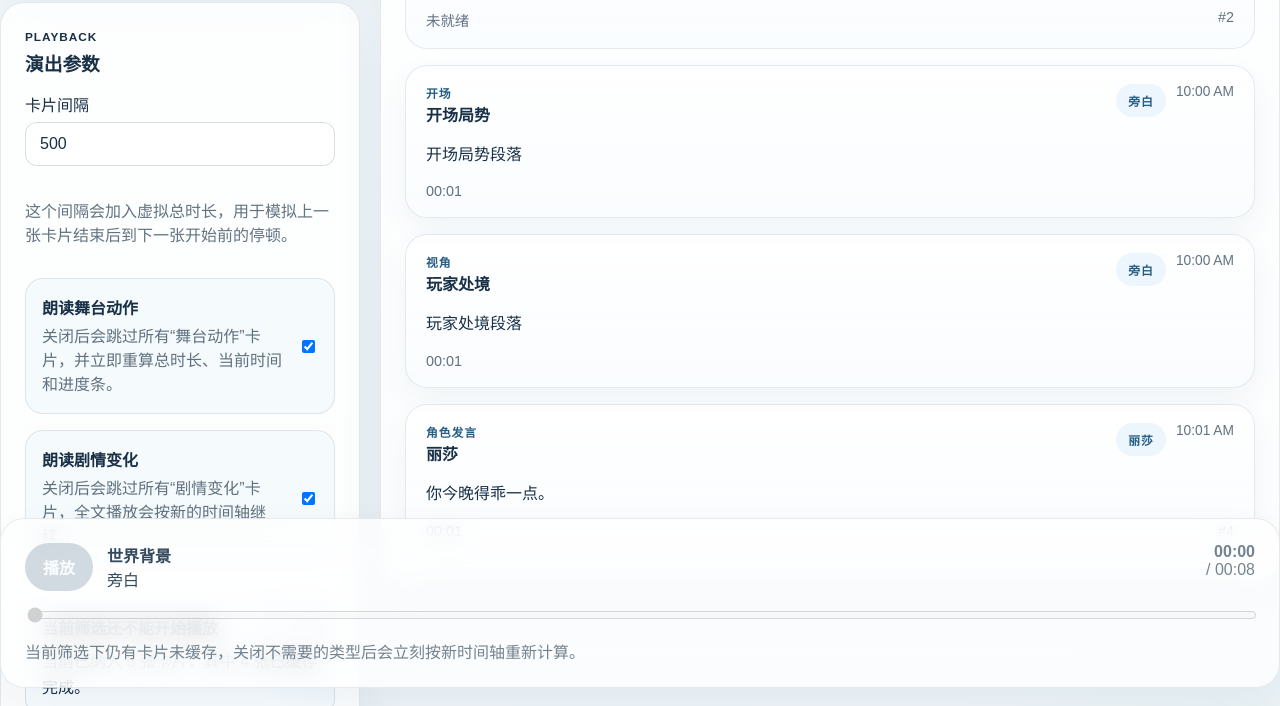
PerformanceModePage › unlocks playback when skipped card types are the only unreadied items
(page scrolled)
Check: the button with test id "performance-play-toggle" is disabled, box x1=25 y1=543 x2=93 y2=591
Click the checkbox with test id "performance-stage-direction-toggle" at (308, 346), box x1=302 y1=340 x2=315 y2=353
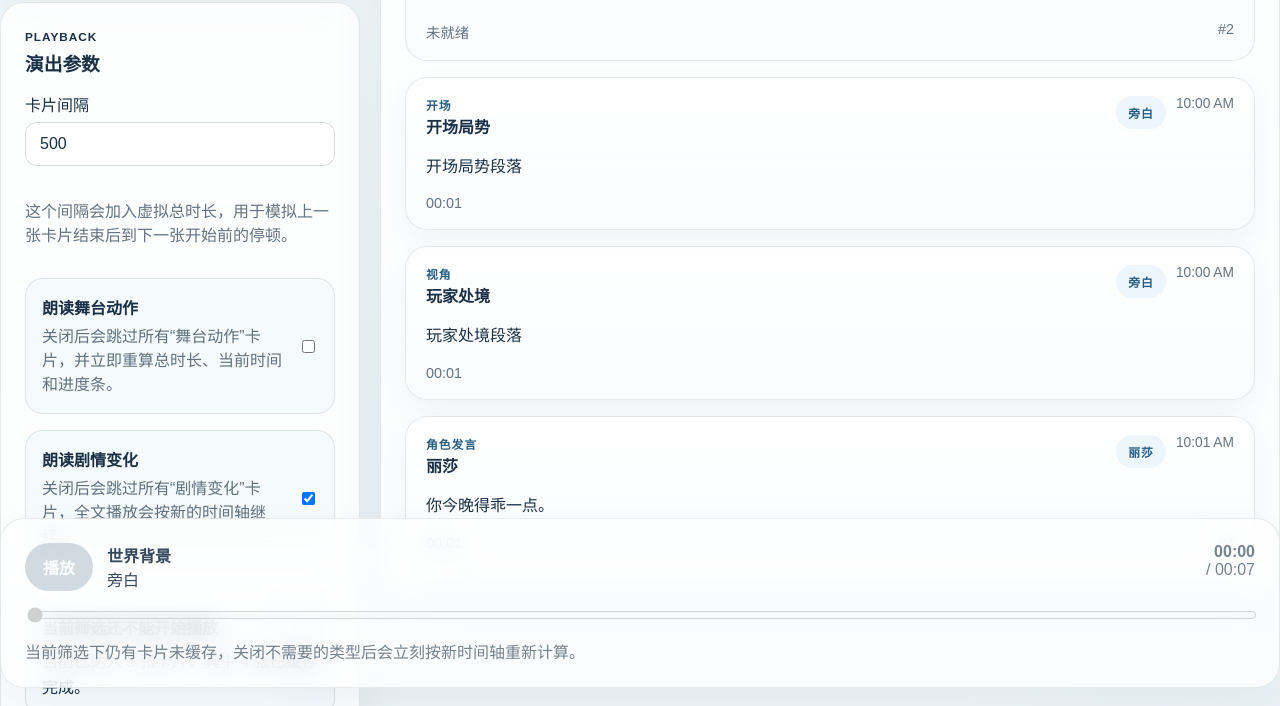
Click the checkbox with test id "performance-story-effect-toggle" at (308, 498), box x1=302 y1=492 x2=315 y2=505
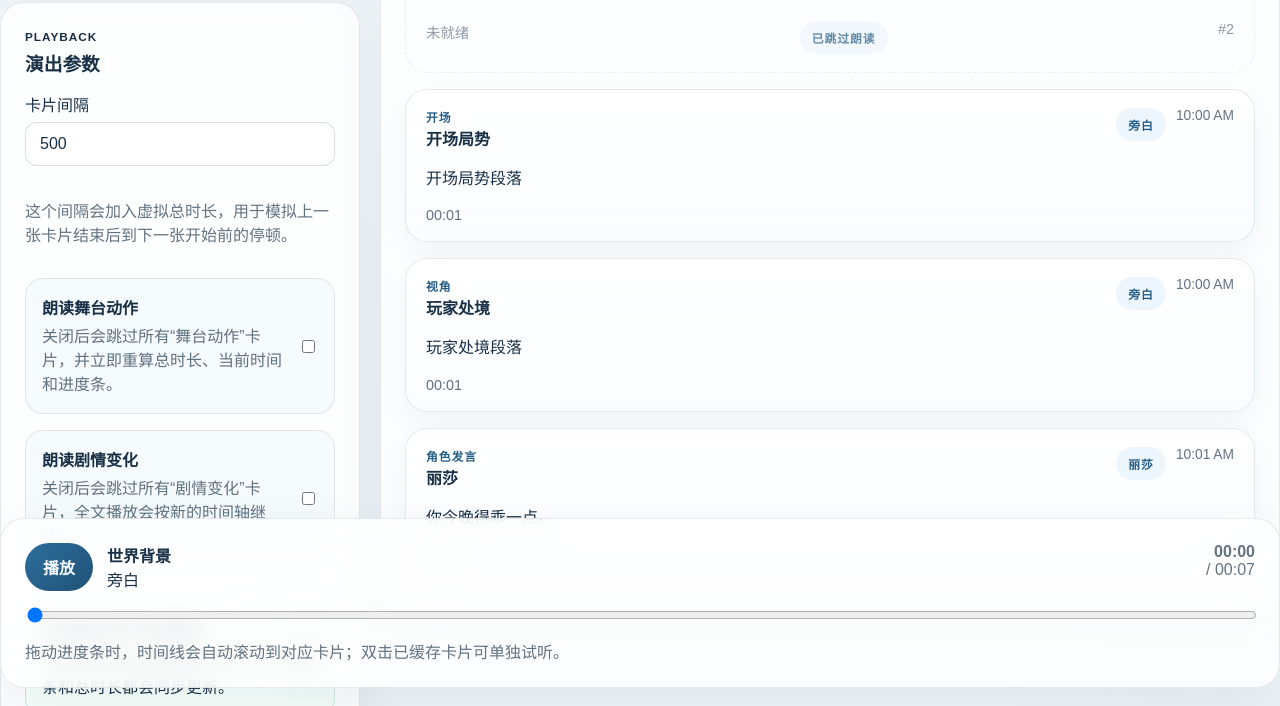
Check: the button with test id "performance-play-toggle" is enabled, box x1=25 y1=543 x2=93 y2=591
